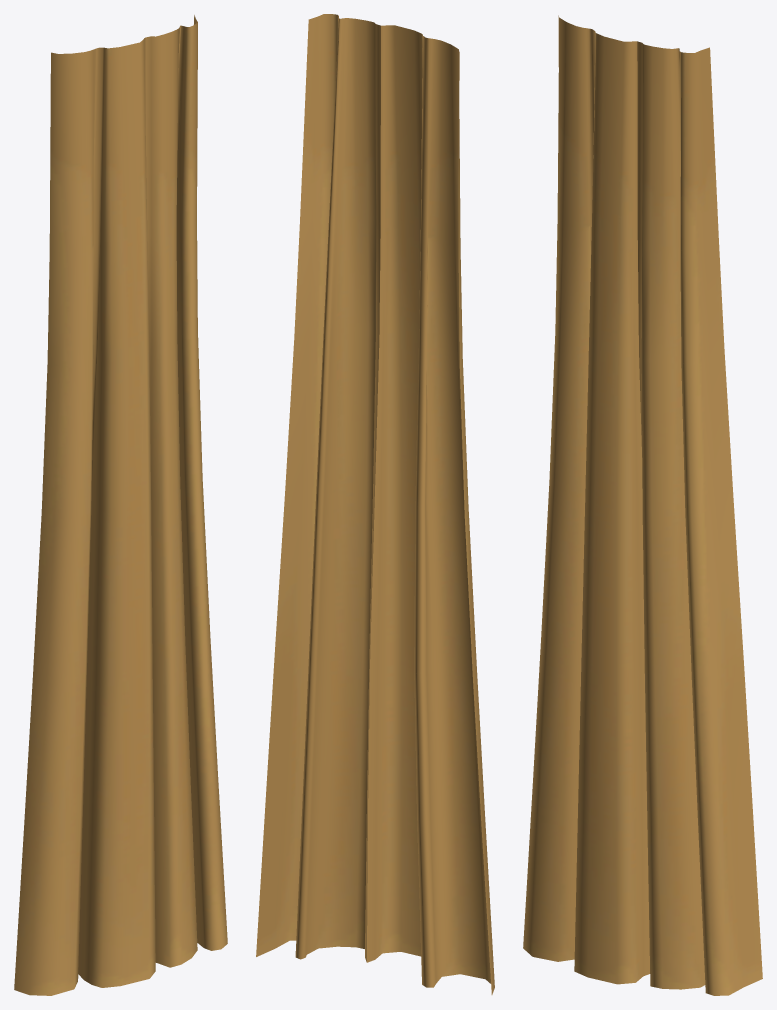
File: CurtainVertical1.fbx
The picture shows the model from 3 angles, left to right: view 1: azimuth 30°, elevation 25°; view 2: azimuth 150°, elevation 25°; view 3: azimuth 330°, elevation 25°; orthographic projection.
Parts seen in each view (by area): view 1: CurtainVertical1; view 2: CurtainVertical1; view 3: CurtainVertical1.
Boxes of the visible parts, x1,y1,x2,y2 form: CurtainVertical1: (14, 15, 227, 995); CurtainVertical1: (256, 14, 494, 994); CurtainVertical1: (523, 15, 762, 995).
Size of the model in its own units: 294 by 1210 by 100.
Materials: 1 (1 with a texture image).
